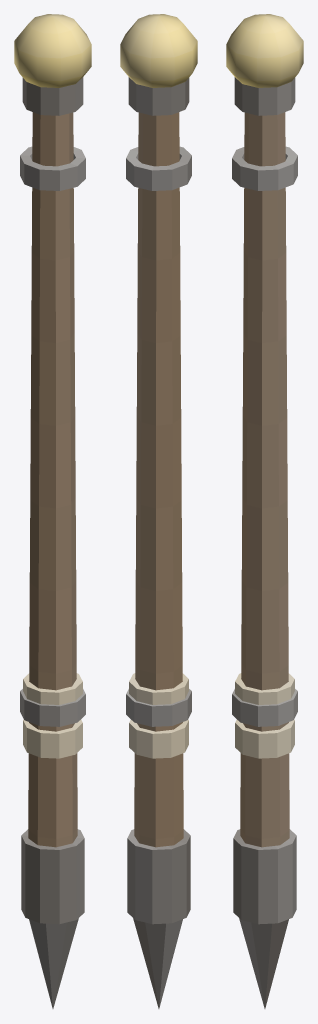
Rendered from pole_short.glb.
3 views of the same model, side by side, from view 1: azimuth 30°, elevation 25°; view 2: azimuth 150°, elevation 25°; view 3: azimuth 330°, elevation 25° (orthographic).
Parts seen in each view (by area): view 1: Wood, Iron, Brass, Rope; view 2: Wood, Iron, Brass, Rope; view 3: Wood, Iron, Brass, Rope.
Boxes of the visible parts, x1,y1,x2,y2 form: Wood: (28,112,77,847); Iron: (20,77,85,1008); Brass: (14,14,91,87); Rope: (23,673,82,758); Wood: (134,112,183,847); Iron: (126,77,191,1008); Brass: (120,14,197,87); Rope: (129,673,188,758); Wood: (240,112,289,847); Iron: (232,77,297,1008); Brass: (226,14,303,87); Rope: (235,673,294,758).
Size of the model in its own units: 0.0852 by 1.2 by 0.081.
